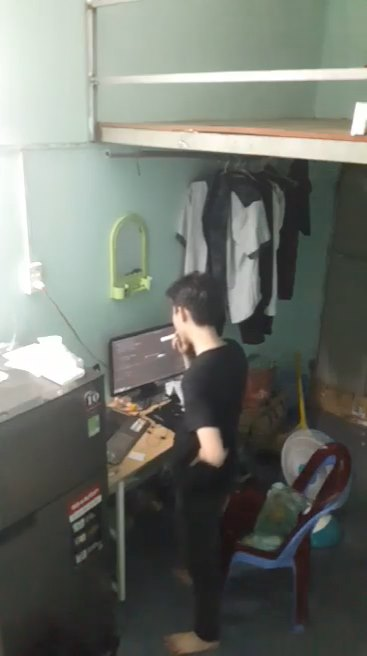cigarette: (162, 331, 183, 348)
person: (155, 270, 277, 656)
